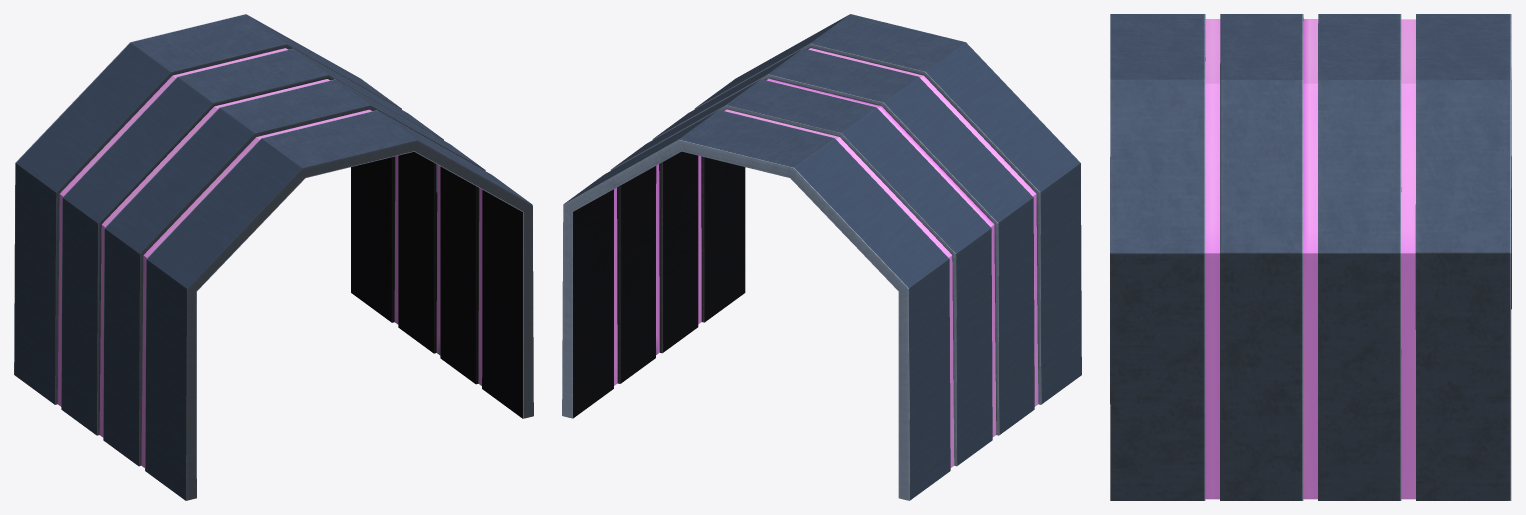
The model's file is EntranceDoor01_Art.glb.
3 renders of one model, left to right at view 1: azimuth 30°, elevation 25°; view 2: azimuth 150°, elevation 25°; view 3: azimuth 270°, elevation 25°, orthographic. The views are drawn at different scales.
Parts seen in each view (by area): view 1: EntranceDoor01_Art; view 2: EntranceDoor01_Art; view 3: EntranceDoor01_Art.
Boxes of the visible parts, x1,y1,x2,y2 form: EntranceDoor01_Art: [14, 14, 533, 500]; EntranceDoor01_Art: [562, 14, 1081, 500]; EntranceDoor01_Art: [1110, 14, 1511, 500].
Bounding box in the file's own units: 5.71 × 4.77 × 4.9.
1 material, 1 textured.
